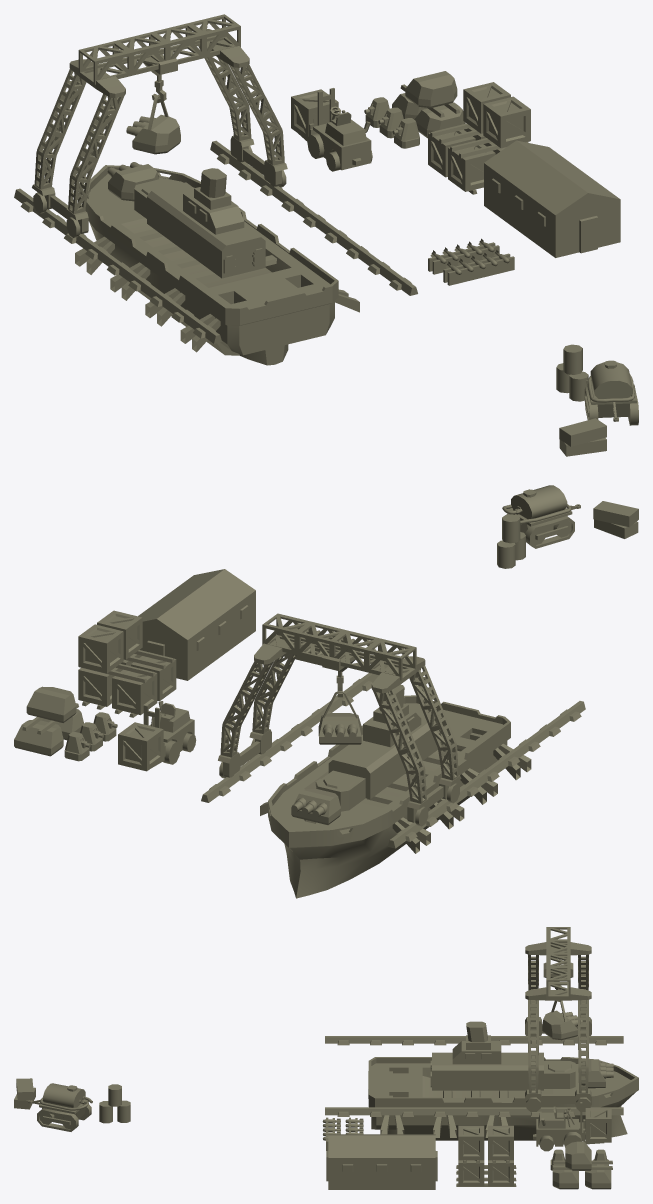
The model's file is Props_B_1.fbx.
The picture shows the model from 3 angles, top to bottom: view 1: azimuth 30°, elevation 25°; view 2: azimuth 150°, elevation 25°; view 3: azimuth 270°, elevation 25°; orthographic projection. The views are drawn at different scales.
Visible parts, largest first — view 1: Props_B_1.002, Props_B_1.001, Props_B_1, Props_B_1.003; view 2: Props_B_1.001, Props_B_1.002, Props_B_1, Props_B_1.003; view 3: Props_B_1.002, Props_B_1.001, Props_B_1, Props_B_1.003.
Part boxes in pixels (<box>): Props_B_1.002: <box>75,162,359,365</box>; Props_B_1.001: <box>291,71,620,257</box>; Props_B_1: <box>16,14,415,335</box>; Props_B_1.003: <box>14,142,638,456</box>; Props_B_1.001: <box>14,569,255,771</box>; Props_B_1.002: <box>260,684,531,898</box>; Props_B_1: <box>203,613,583,840</box>; Props_B_1.003: <box>201,485,638,848</box>; Props_B_1.002: <box>368,1021,638,1140</box>; Props_B_1.001: <box>326,1097,612,1189</box>; Props_B_1: <box>325,927,623,1111</box>; Props_B_1.003: <box>14,1037,623,1150</box>.
Bounding box in the file's own units: 75.07 × 41.76 × 131.
